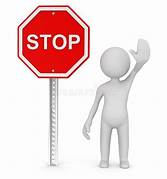stop: (18, 4, 90, 78)
